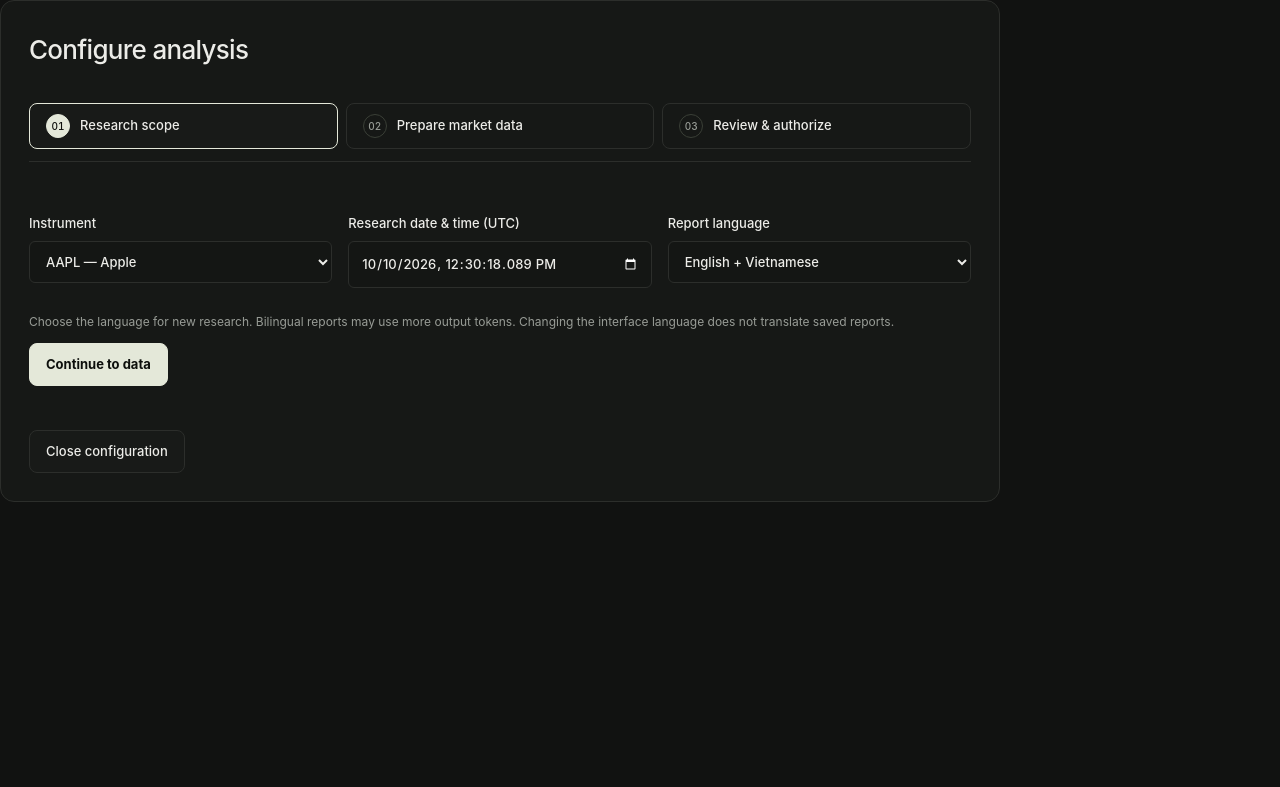
Test: opens saved-source review without collecting, selecting or authorizing anything (stale=false)
What coordinates should you click on to do the following:
click the button "02 Prepare market data"
I would click on:
 (500, 126)
Its box is [346,103,654,149].
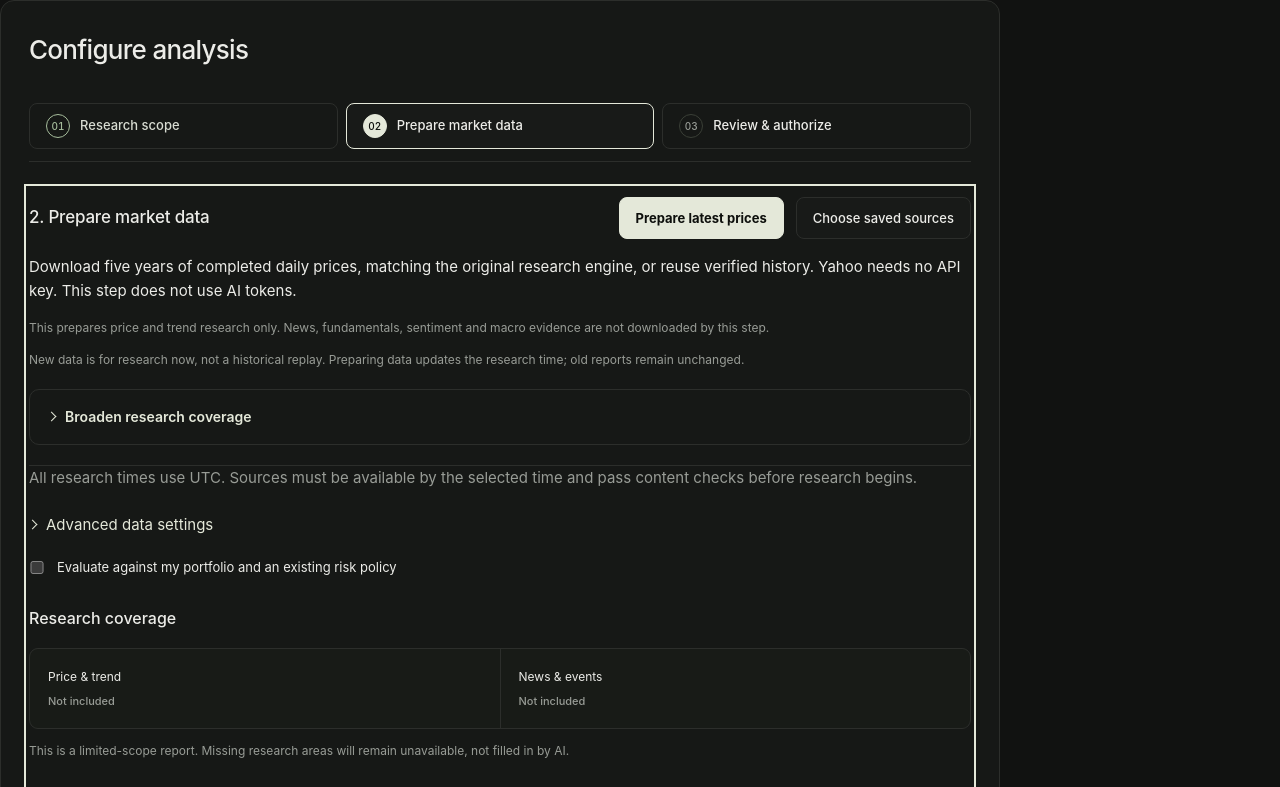
What coordinates should you click on to do the following:
click the heading "Broaden research coverage"
I would click on:
 (158, 416)
Its box is [65,408,252,425].
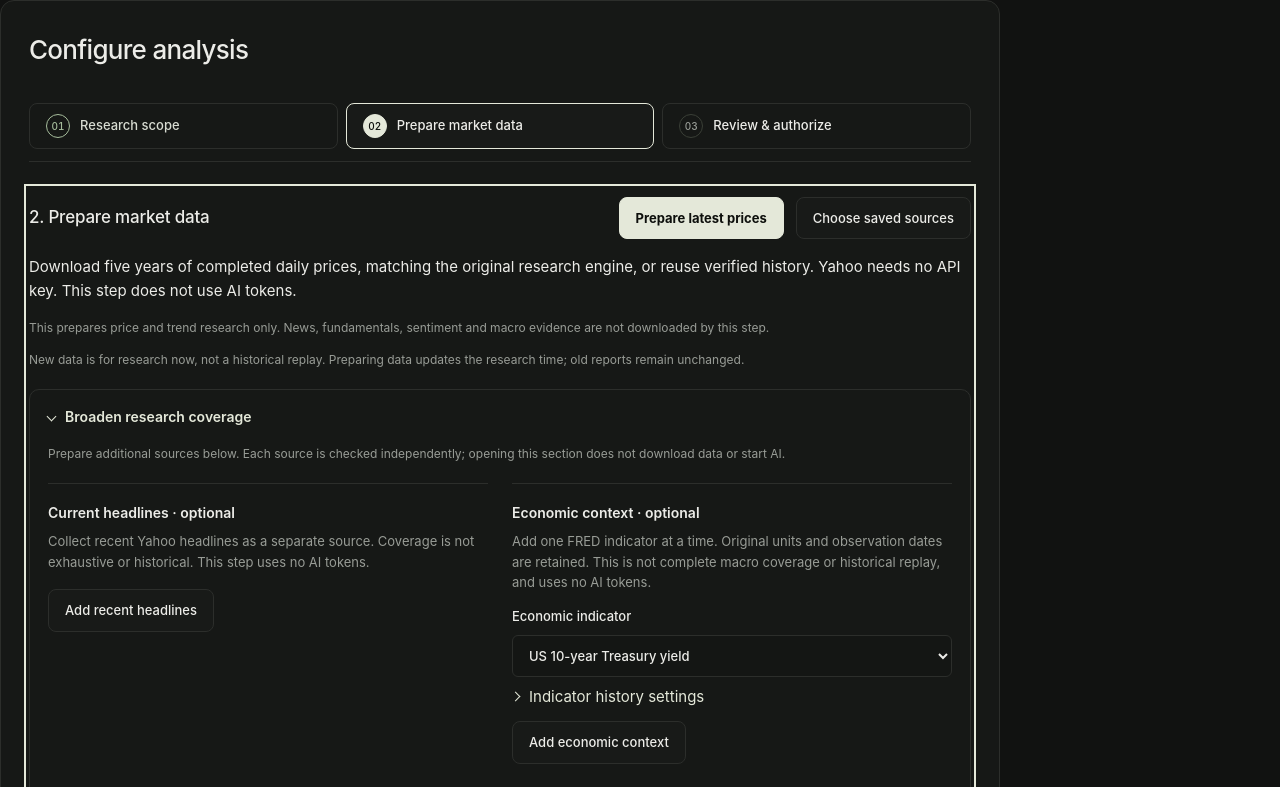
What coordinates should you click on to do the following:
click the button "Choose saved sources"
I would click on:
 (883, 218)
Its box is [796,197,971,239].
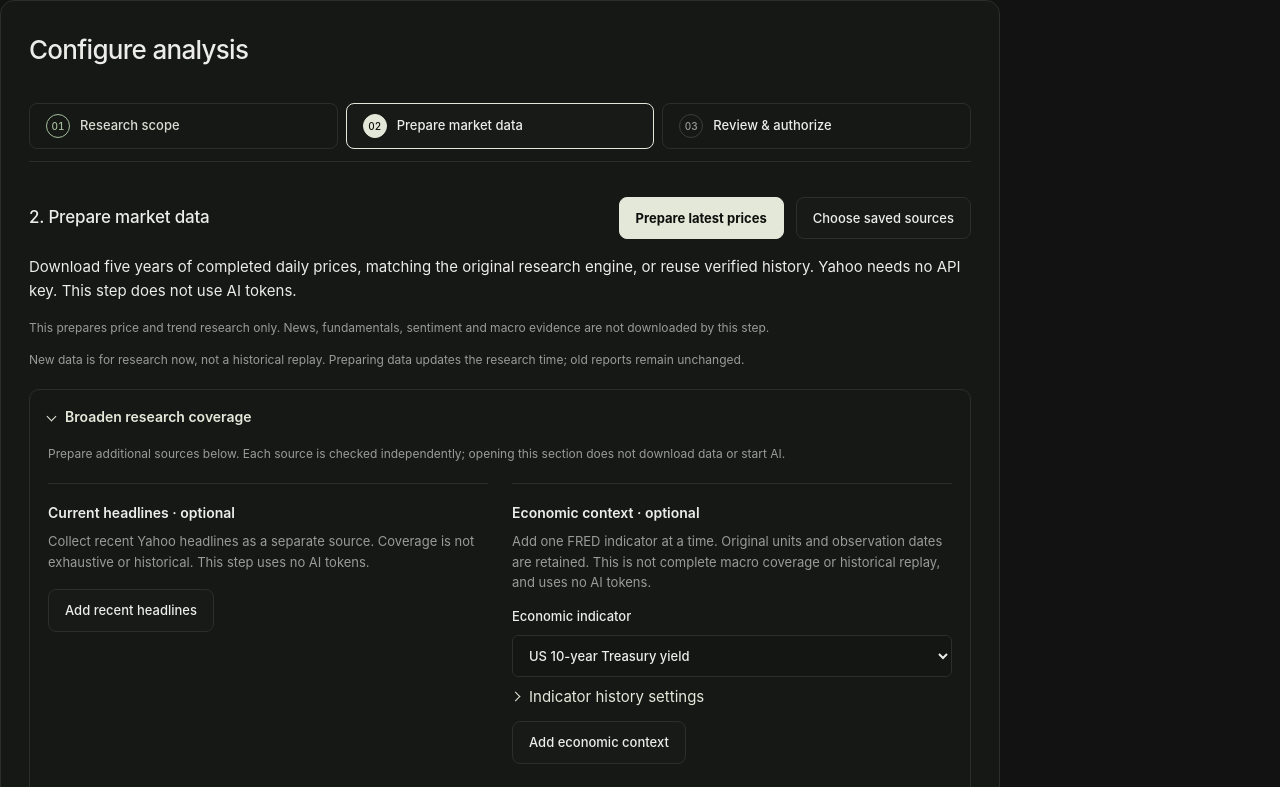
What coordinates should you click on to do the following:
click the button "03 Review & authorize"
I would click on:
 (817, 126)
Its box is [662,103,971,149].
(page scrolled)
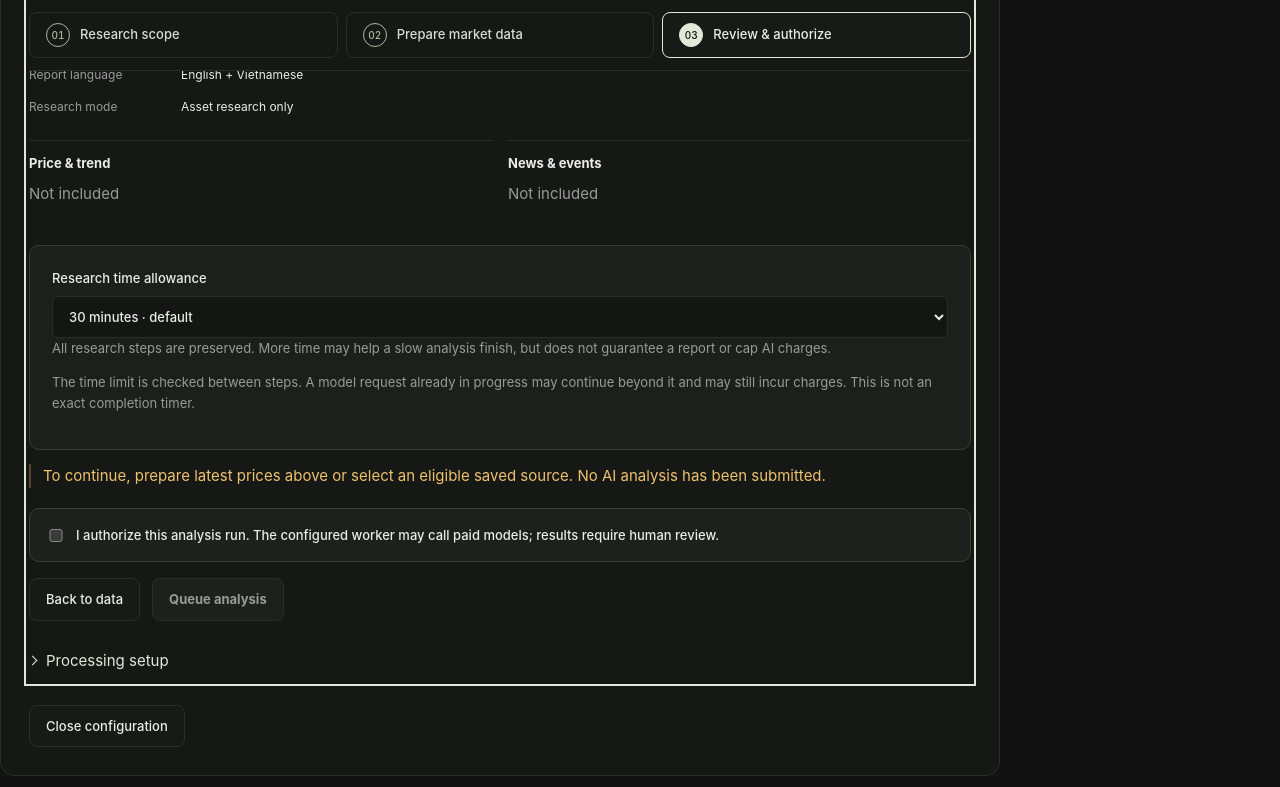
Expected: the checkbox labelled "I authorize" is not checked, [48,529,64,542]
Expected: the button "Queue analysis" is disabled, [152,578,284,621]
